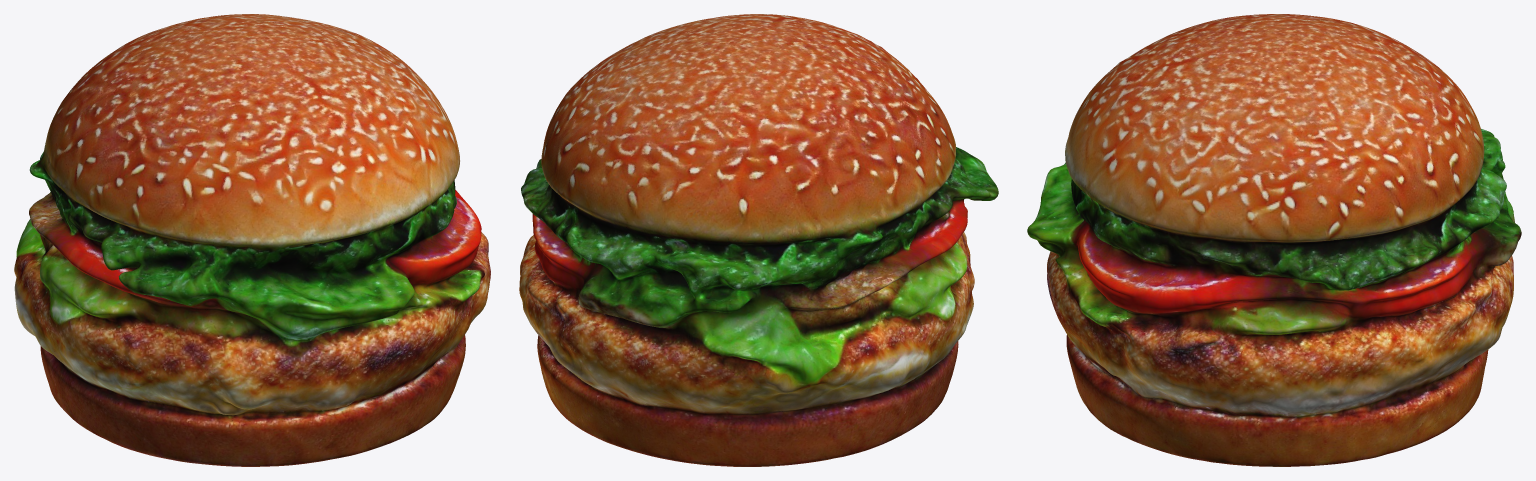
Rendered from burger.glb.
3 renders of one model, left to right at view 1: azimuth 30°, elevation 25°; view 2: azimuth 150°, elevation 25°; view 3: azimuth 270°, elevation 25°, orthographic.
Visible parts, largest first — view 1: burger; view 2: burger; view 3: burger.
Boxes of the visible parts, x1,y1,x2,y2 form: burger: (14, 14, 490, 466); burger: (519, 14, 998, 466); burger: (1027, 14, 1521, 466).
Size of the model in its own units: 1.27 by 1.04 by 1.35.
1 material, 1 textured.
